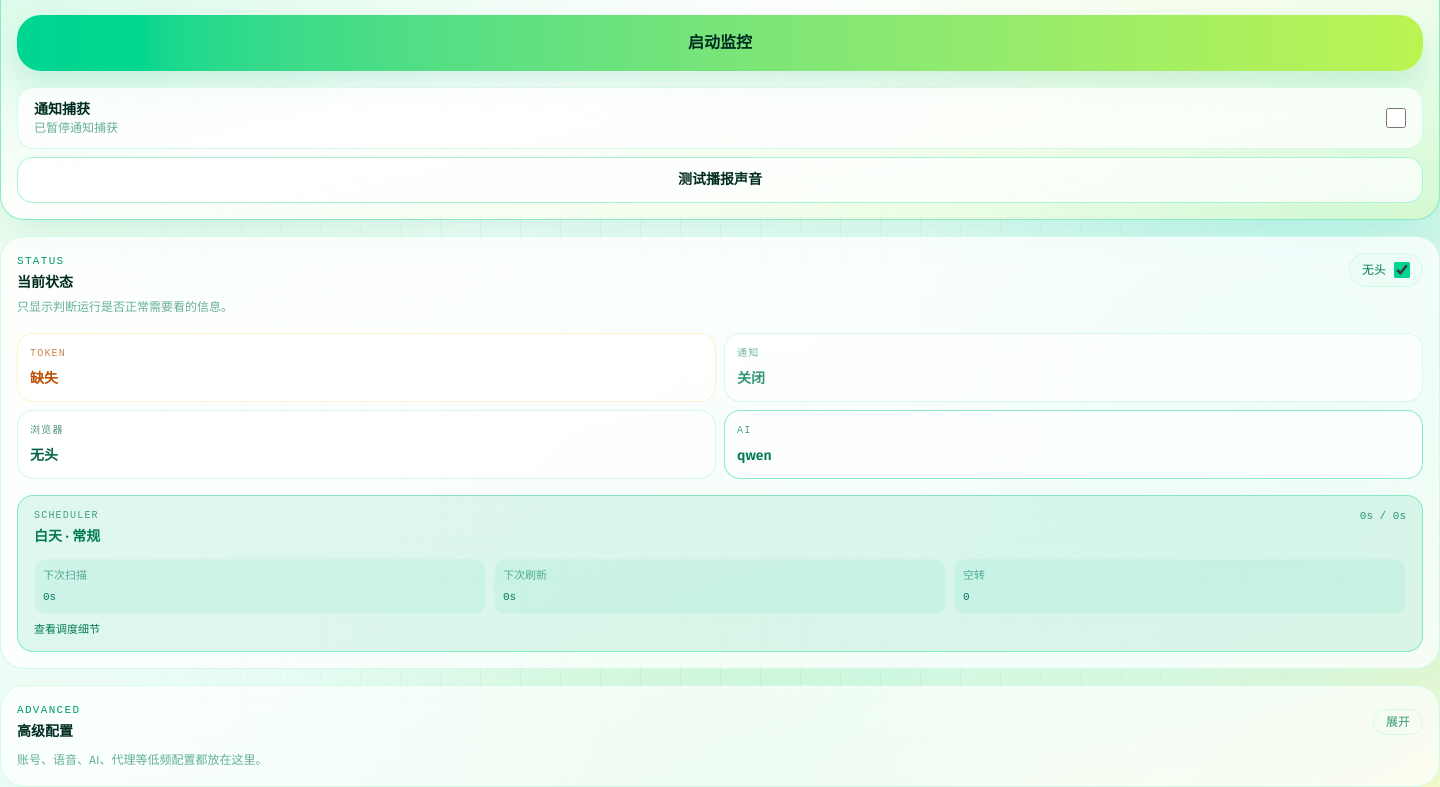
Test case: ControlWorkbench › shows llm test busy label when testing
The width and height of the screenshot is (1440, 787).
(page scrolled)
Click the heading "Advanced 高级配置 展开 账号、语音、AI、代理等低频配置都放在这里。" at (49, 710), box [17,702,1423,770]
(page scrolled)
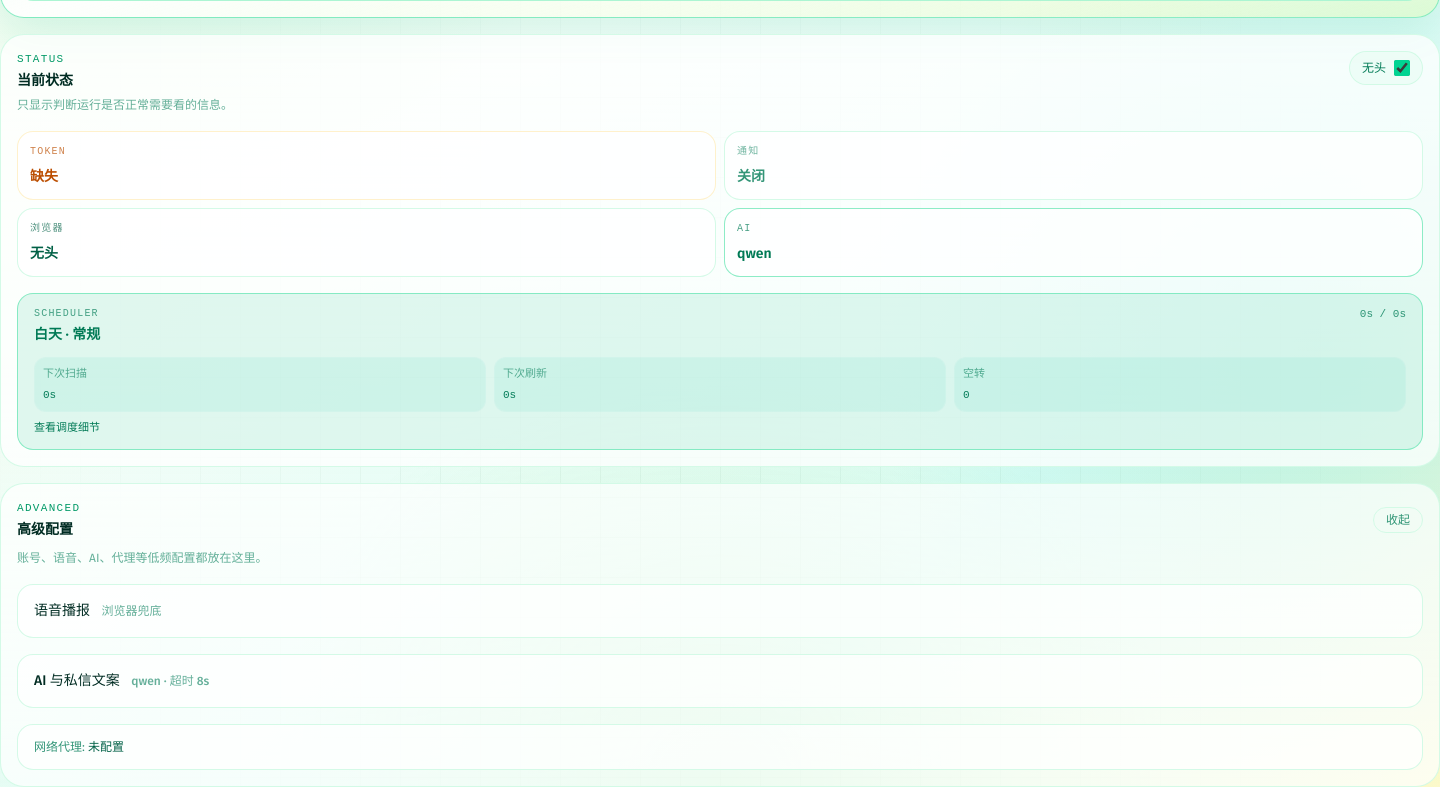
Click the heading "AI 与私信文案 qwen · 超时 8s" at (122, 680), box [34,672,209,689]
(page scrolled)
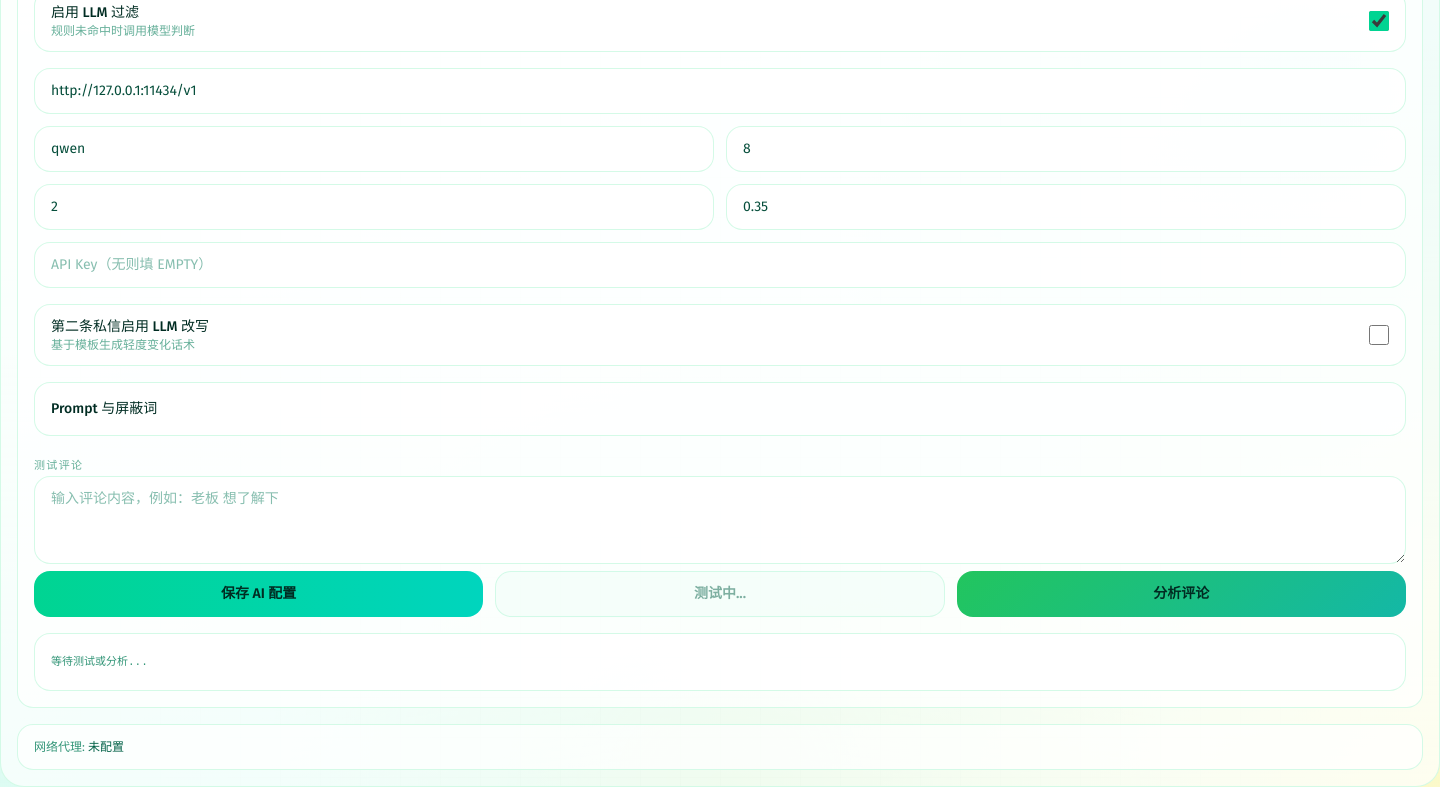
expect the button "测试中..." is shown: met, box [495,571,945,617]
expect the button "测试中..." is disabled: met, box [495,571,945,617]
